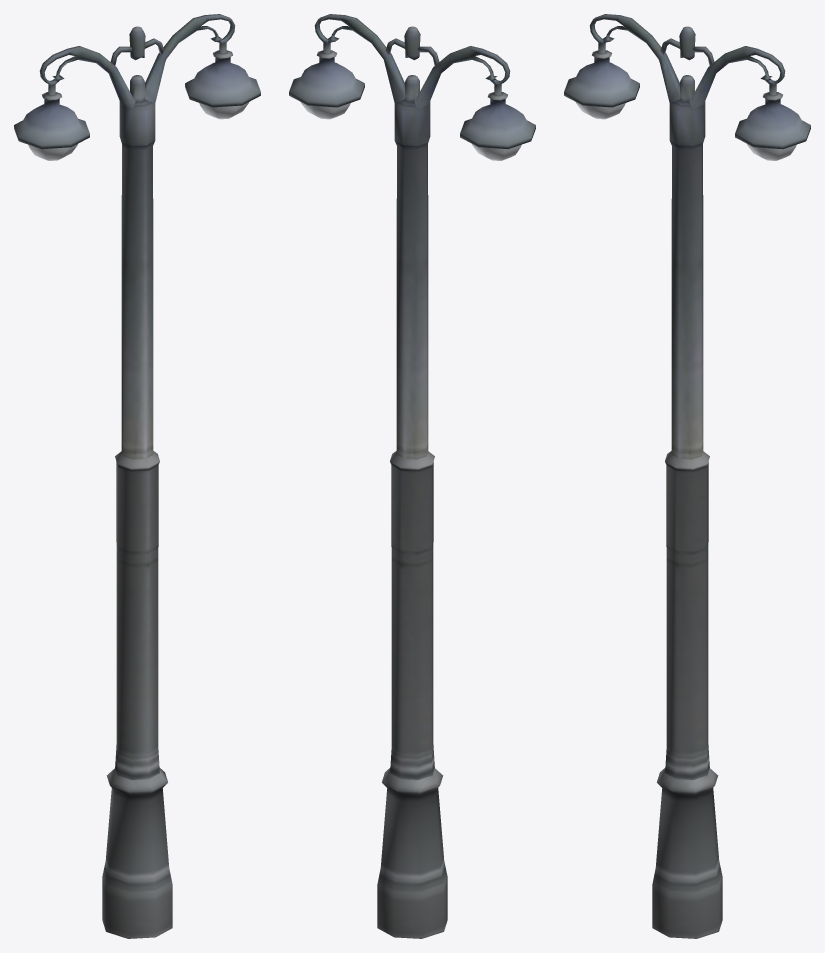
The model's file is MoscowLampPost.fbx.
The picture shows the model from 3 angles, left to right: view 1: azimuth 30°, elevation 25°; view 2: azimuth 150°, elevation 25°; view 3: azimuth 330°, elevation 25°; orthographic projection.
Visible parts, largest first — view 1: Cylinder; view 2: Cylinder; view 3: Cylinder.
Part boxes in pixels (x1,y1,x2,y2): Cylinder: (14, 14, 260, 938); Cylinder: (289, 14, 535, 938); Cylinder: (564, 14, 810, 938).
Bounding box in the file's own units: 176 × 635 × 49.2.
1 material, 1 textured.
